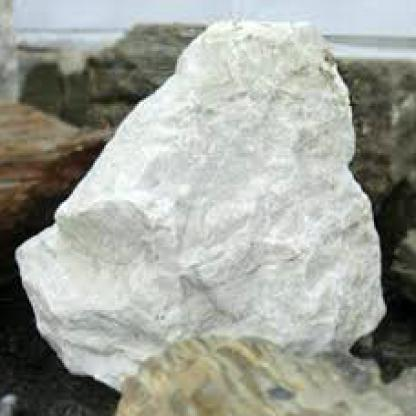Metamorphic_Marble: (14, 16, 387, 398)
